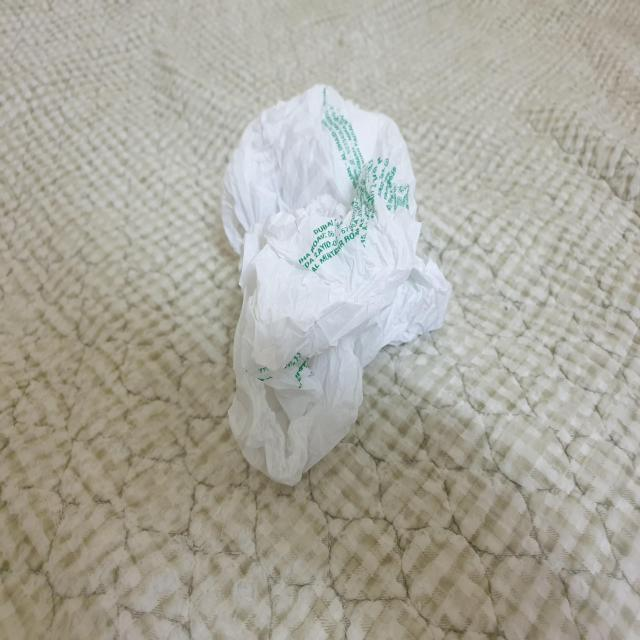plastic bag: (202, 82, 464, 490)
